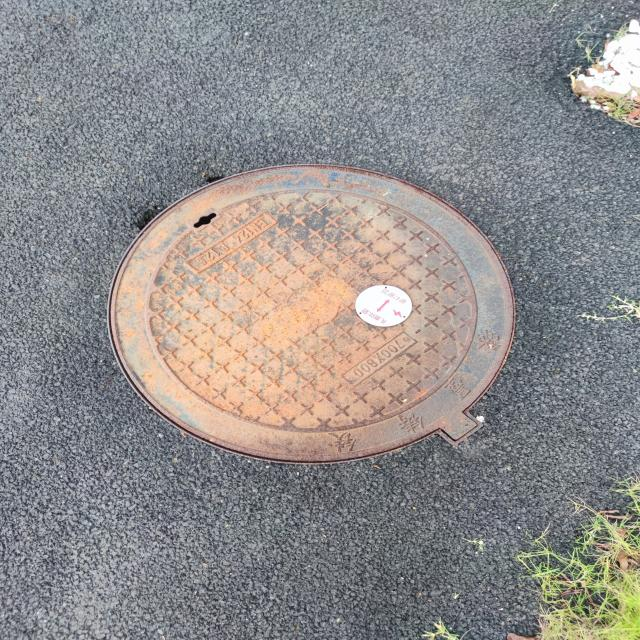Good: (103, 160, 522, 468)
